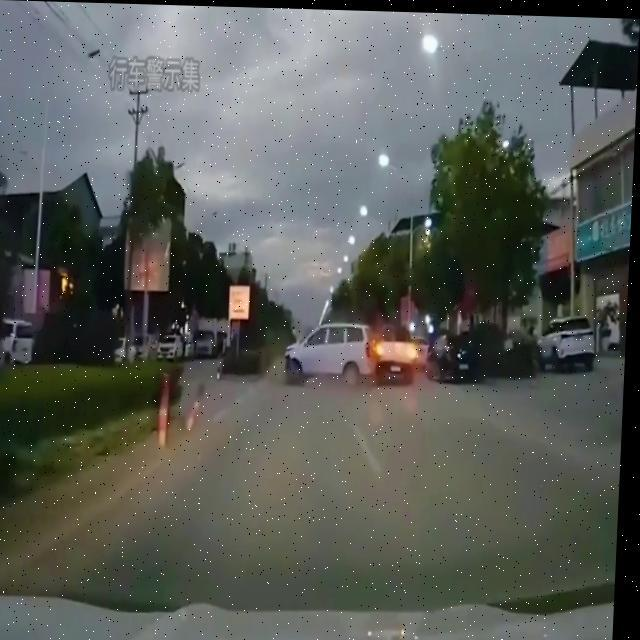multiple_accident: (291, 300, 489, 397)
normal: (509, 291, 603, 374)
